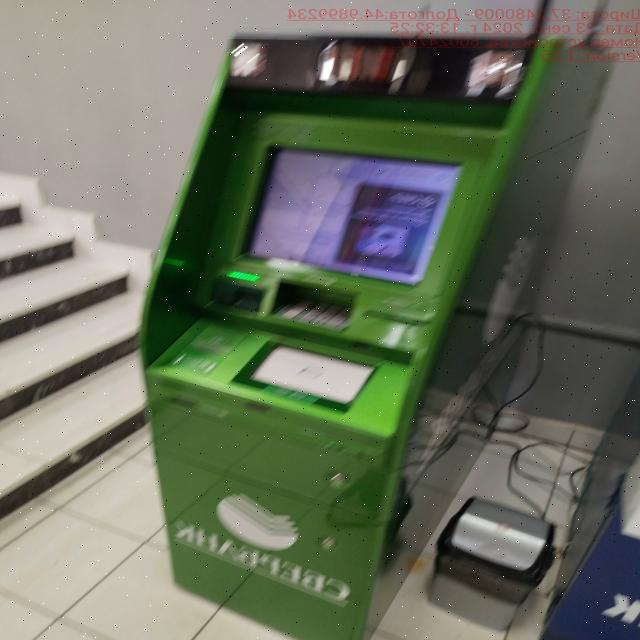bank: (137, 38, 616, 640)
